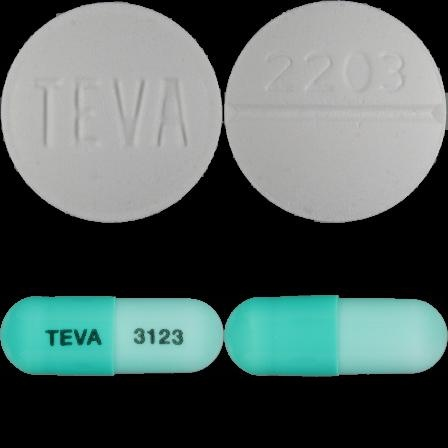33261-166: (0, 0, 224, 224)
